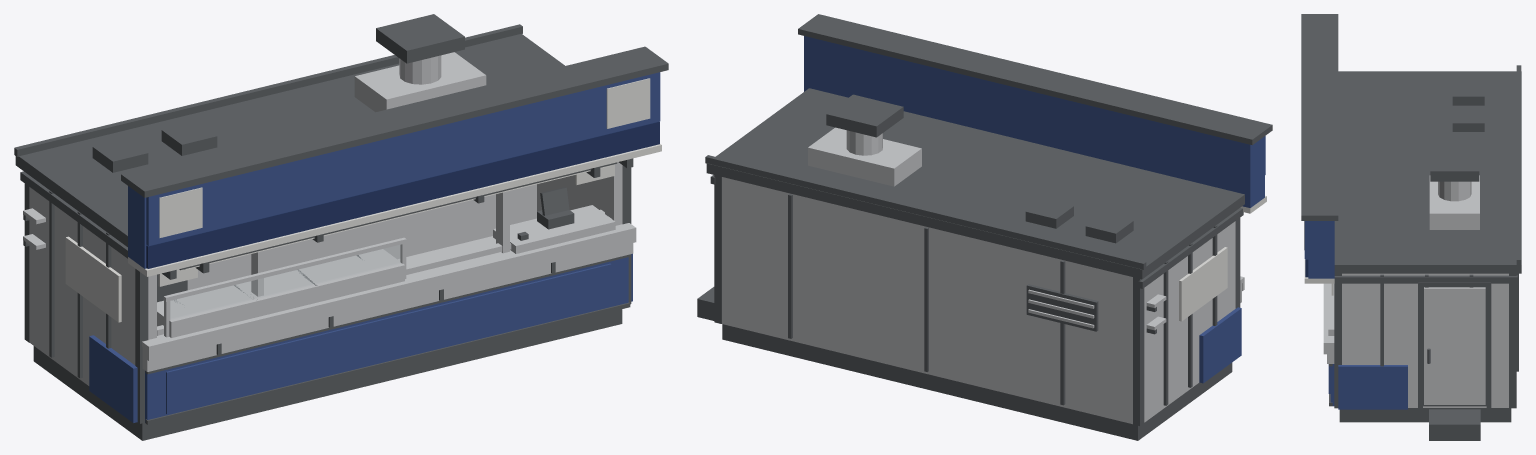
The model's file is greek_gyros.glb.
3 views of the same model, side by side, from view 1: azimuth 30°, elevation 25°; view 2: azimuth 150°, elevation 25°; view 3: azimuth 270°, elevation 25° (orthographic). The views are drawn at different scales.
Parts seen in each view (by area): view 1: GG_MainSignSurface, GG_LowerFrontSignSurface, GG_RoofSlab, GG_CanopyTopCap, GG_MenuStripSurface, GG_SideWall_Left, GG_BaseSkirt, GG_HotWell_Body, GG_ServiceCounter_Top, GG_MetalCladding_Apron, GG_ServiceCounter_FrontLip, GG_RoofEdgeTrim_Rear (+33 smaller); view 2: GG_RearWall, GG_RoofSlab, GG_SignBoxBody, GG_CanopyTopCap, GG_BaseSkirt, GG_SideWall_Left, GG_RoofEdgeTrim_Rear, GG_ExtractionPlenum, GG_ExtractionCowl, GG_LowerSidePanel_Left, GG_SideSignSurface, GG_CornerPost_RearLeft (+10 smaller); view 3: GG_RoofSlab, GG_SideWall_Right, GG_CanopyTopCap, GG_SideDoor_Panel, GG_LowerSidePanel_Right, GG_ExtractionPlenum, GG_BaseSkirt, GG_SideStep, GG_ExtractionCowl, GG_SignBoxBody, GG_SideTrim_Right, GG_RoofEdgeTrim_Rear (+15 smaller).
Part boxes in pixels (x1,y1,x2,y2): GG_MainSignSurface: (146,72,660,245); GG_LowerFrontSignSurface: (166,263,611,414); GG_RoofSlab: (15,33,564,246); GG_CanopyTopCap: (121,46,668,197); GG_MenuStripSurface: (146,121,659,268); GG_SideWall_Left: (29,187,135,385); GG_BaseSkirt: (33,309,622,440); GG_HotWell_Body: (157,249,404,337); GG_ServiceCounter_Top: (142,209,636,351); GG_MetalCladding_Apron: (142,243,633,371); GG_ServiceCounter_FrontLip: (146,232,636,360); GG_RoofEdgeTrim_Rear: (14,24,522,156); GG_RearWall: (722,177,1144,424); GG_RoofSlab: (706,88,1244,279); GG_SignBoxBody: (804,36,1264,207); GG_CanopyTopCap: (798,14,1272,145); GG_BaseSkirt: (722,324,1232,440); GG_SideWall_Left: (1132,221,1235,422); GG_RoofEdgeTrim_Rear: (705,155,1146,269); GG_ExtractionPlenum: (808,127,921,186); GG_ExtractionCowl: (826,94,903,137); GG_LowerSidePanel_Left: (1199,307,1241,383); GG_SideSignSurface: (1179,247,1227,321); GG_CornerPost_RearLeft: (1133,277,1144,425); GG_RoofSlab: (1334,71,1521,273); GG_SideWall_Right: (1342,273,1508,407); GG_CanopyTopCap: (1301,14,1338,220); GG_SideDoor_Panel: (1424,287,1485,404); GG_LowerSidePanel_Right: (1338,365,1407,409); GG_ExtractionPlenum: (1429,175,1479,229); GG_BaseSkirt: (1339,408,1511,422); GG_SideStep: (1429,409,1480,440); GG_ExtractionCowl: (1430,149,1479,181); GG_SignBoxBody: (1308,221,1334,278); GG_SideTrim_Right: (1334,275,1517,283); GG_RoofEdgeTrim_Rear: (1516,65,1521,265).
Bounding box in the file's own units: 7.18 × 3.4 × 3.16.
